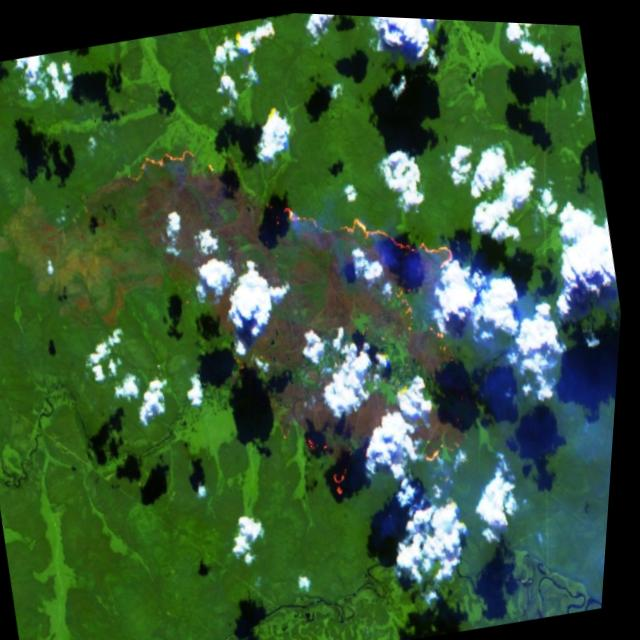fire: (270, 166, 474, 333), (84, 119, 237, 221), (285, 406, 374, 527), (406, 413, 490, 481)
